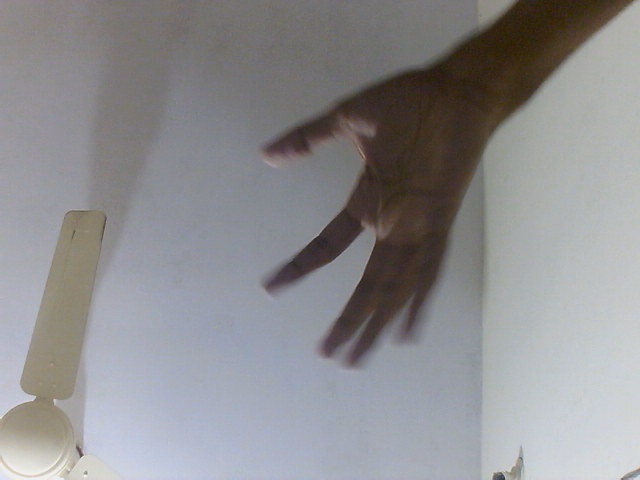hand: (243, 57, 503, 385)
